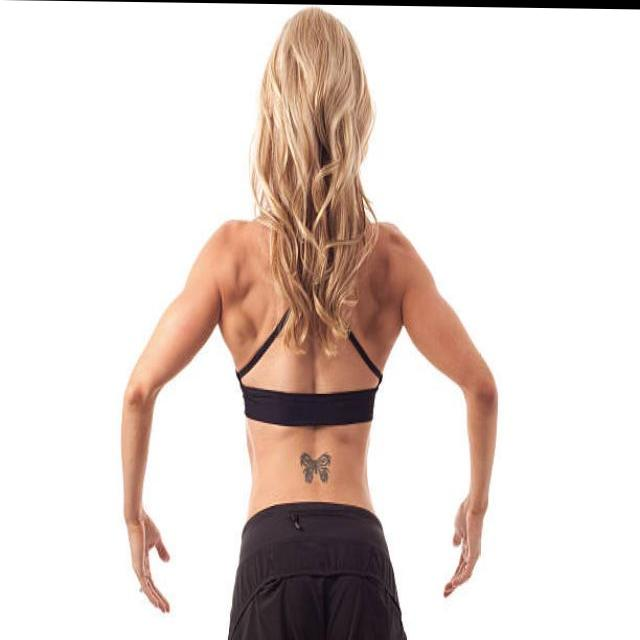no helmet: (254, 9, 372, 222)
